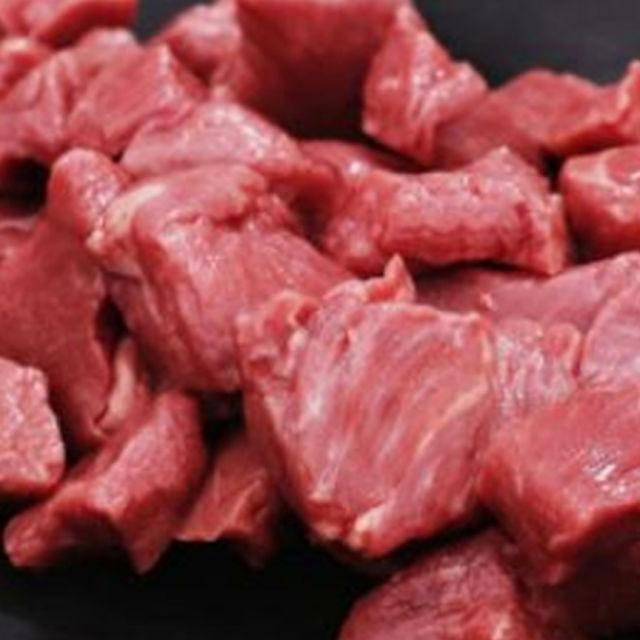beef: (230, 252, 640, 613), (9, 142, 393, 409), (501, 55, 640, 266), (0, 318, 95, 534), (0, 0, 198, 67)
